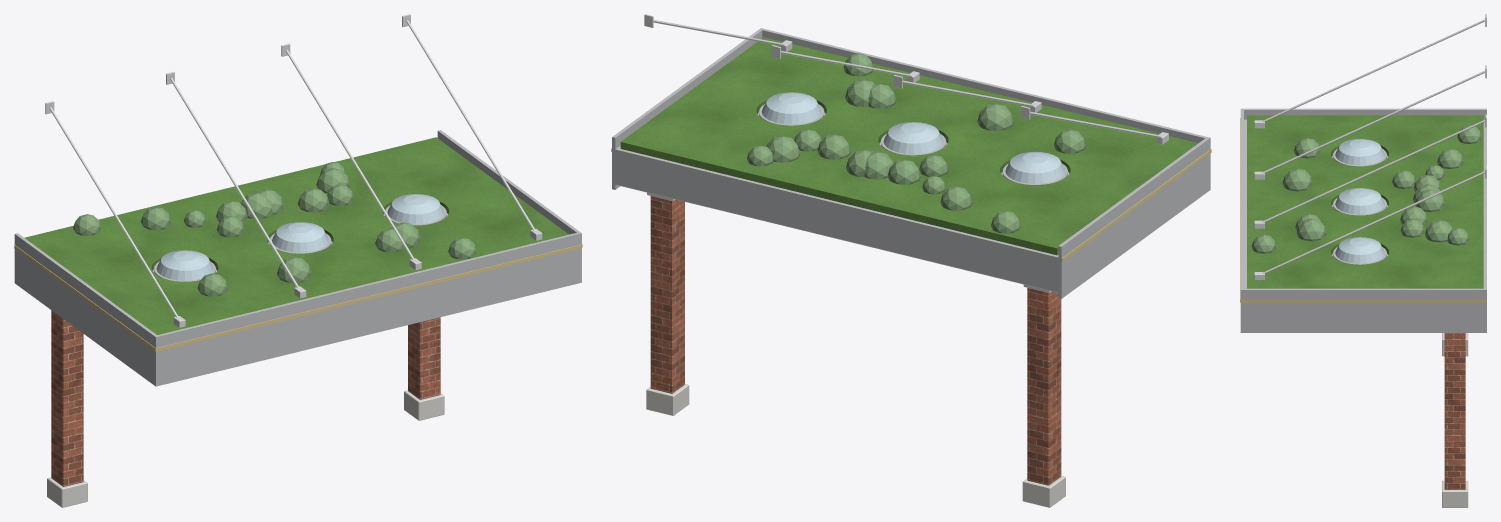
File: canopy.glb
The picture shows the model from 3 angles, left to right: view 1: azimuth 30°, elevation 25°; view 2: azimuth 150°, elevation 25°; view 3: azimuth 270°, elevation 25°; orthographic projection. The views are drawn at different scales.
Parts seen in each view (by area): view 1: canopy_grass, canopy_band, canopy_brick, canopy_hedge, canopy_glass, canopy_steel, canopy_gold, canopy_cill; view 2: canopy_grass, canopy_band, canopy_brick, canopy_hedge, canopy_glass, canopy_steel, canopy_cill, canopy_gold; view 3: canopy_grass, canopy_band, canopy_hedge, canopy_brick, canopy_glass, canopy_steel, canopy_gold, canopy_cill.
Boxes of the visible parts, left/top/right/bottom form: canopy_grass: left=24, top=137, right=568, bottom=334; canopy_band: left=14, top=130, right=581, bottom=386; canopy_brick: left=51, top=310, right=440, bottom=486; canopy_hedge: left=73, top=162, right=476, bottom=296; canopy_glass: left=156, top=194, right=444, bottom=280; canopy_steel: left=45, top=14, right=542, bottom=327; canopy_gold: left=14, top=244, right=582, bottom=351; canopy_cill: left=47, top=390, right=444, bottom=507; canopy_grass: left=620, top=37, right=1198, bottom=255; canopy_band: left=612, top=28, right=1210, bottom=298; canopy_brick: left=650, top=196, right=1061, bottom=485; canopy_hedge: left=747, top=53, right=1085, bottom=233; canopy_glass: left=761, top=92, right=1065, bottom=183; canopy_steel: left=644, top=14, right=1168, bottom=144; canopy_cill: left=646, top=192, right=1065, bottom=507; canopy_gold: left=611, top=148, right=1211, bottom=261; canopy_grass: left=1247, top=115, right=1483, bottom=288; canopy_band: left=1240, top=108, right=1486, bottom=332; canopy_hedge: left=1251, top=125, right=1481, bottom=253; canopy_brick: left=1444, top=333, right=1465, bottom=489; canopy_glass: left=1335, top=139, right=1384, bottom=263; canopy_steel: left=1254, top=14, right=1486, bottom=280; canopy_gold: left=1240, top=118, right=1486, bottom=302; canopy_cill: left=1442, top=333, right=1468, bottom=507.
Bounding box in the file's own units: 8.14 × 7 × 4.67.
10 materials, 2 textured.
